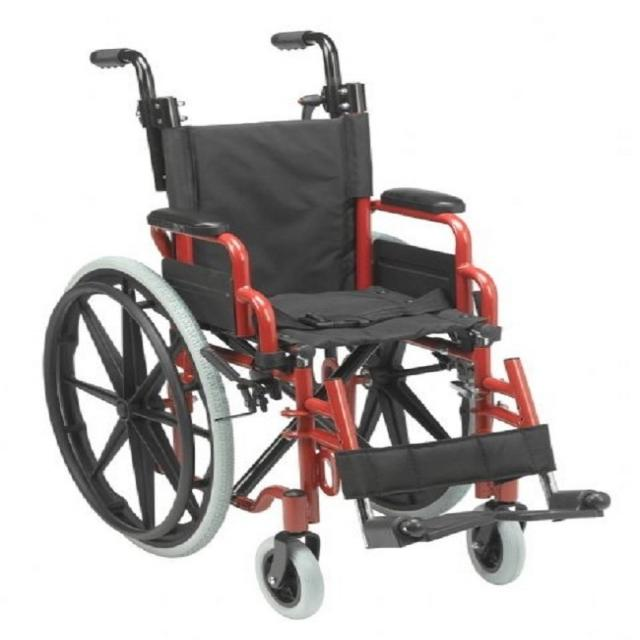wheelchair: (43, 22, 613, 620)
